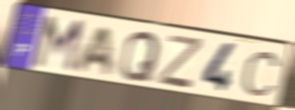4: (199, 40, 236, 98)
A: (73, 24, 115, 78)
C: (239, 50, 282, 98)
M: (30, 14, 87, 76)
Q: (118, 30, 162, 83)
Z: (156, 33, 205, 92)
